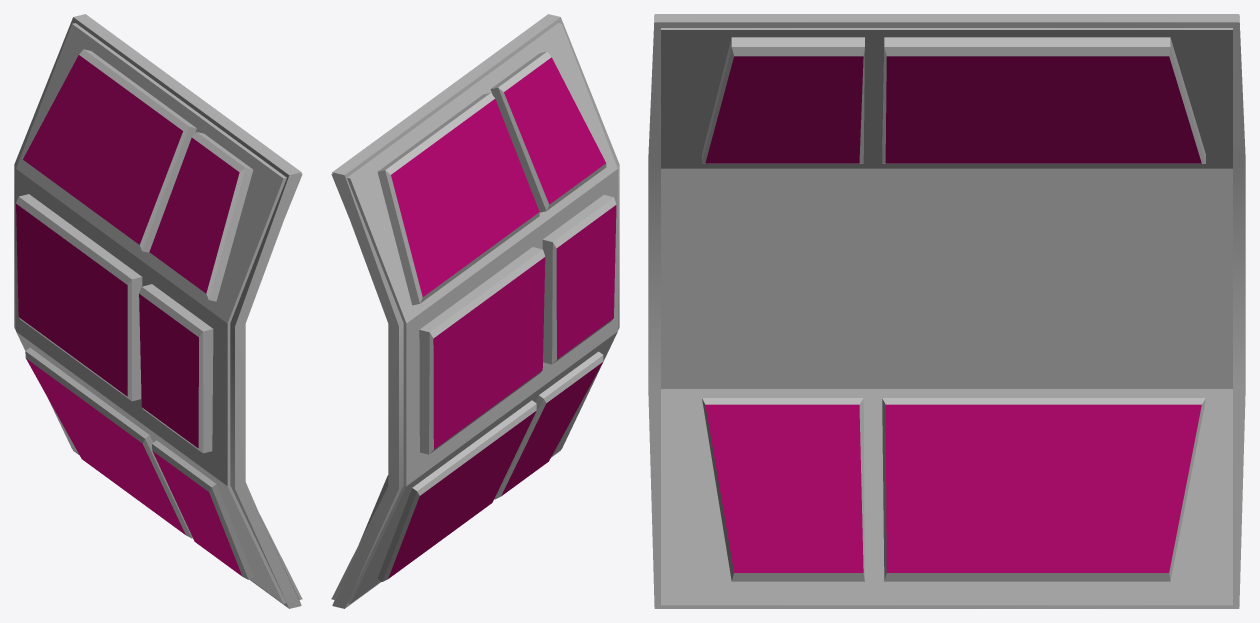
File: tra_veh_alienspacecraftBWing.fbx
3 views of the same model, side by side, from view 1: azimuth 30°, elevation 25°; view 2: azimuth 150°, elevation 25°; view 3: azimuth 270°, elevation 25° (orthographic). The views are drawn at different scales.
Parts seen in each view (by area): view 1: tra_veh_alienspacecraftBWing; view 2: tra_veh_alienspacecraftBWing; view 3: tra_veh_alienspacecraftBWing.
Part boxes in pixels (x1,y1,x2,y2): tra_veh_alienspacecraftBWing: (14, 14, 302, 608); tra_veh_alienspacecraftBWing: (331, 14, 619, 608); tra_veh_alienspacecraftBWing: (648, 14, 1245, 608).
Size of the model in its own units: 25.5 by 113 by 104.
